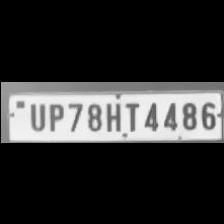4: (140, 99, 160, 131), (160, 98, 178, 130)
6: (198, 99, 218, 129)
7: (64, 98, 82, 132)
8: (83, 99, 103, 130), (178, 99, 198, 129)
H: (104, 99, 122, 131)
P: (44, 100, 64, 132)
T: (120, 99, 140, 131)
U: (24, 99, 46, 130)
